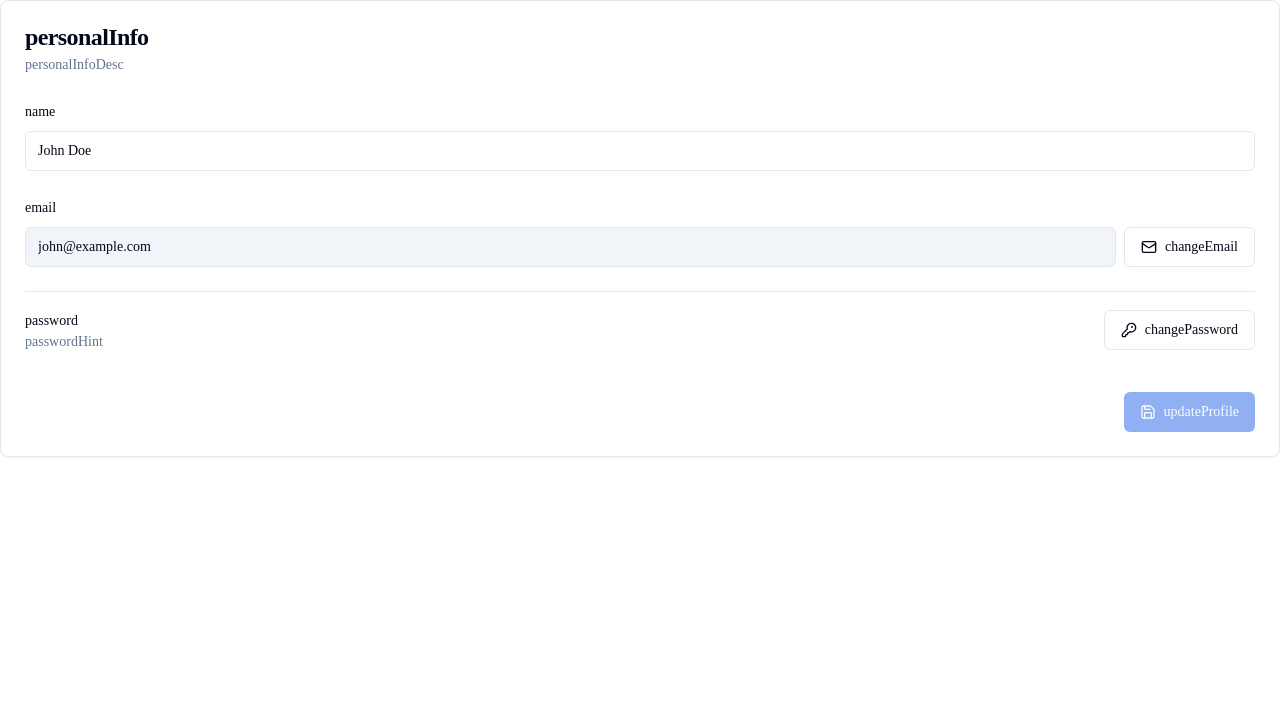
Test: ProfileForm › Email Change Dialog › should enable send verification button when all fields are filled
Click the button "changeEmail".
click(1189, 247)  # box left=1124, top=227, right=1255, bottom=267
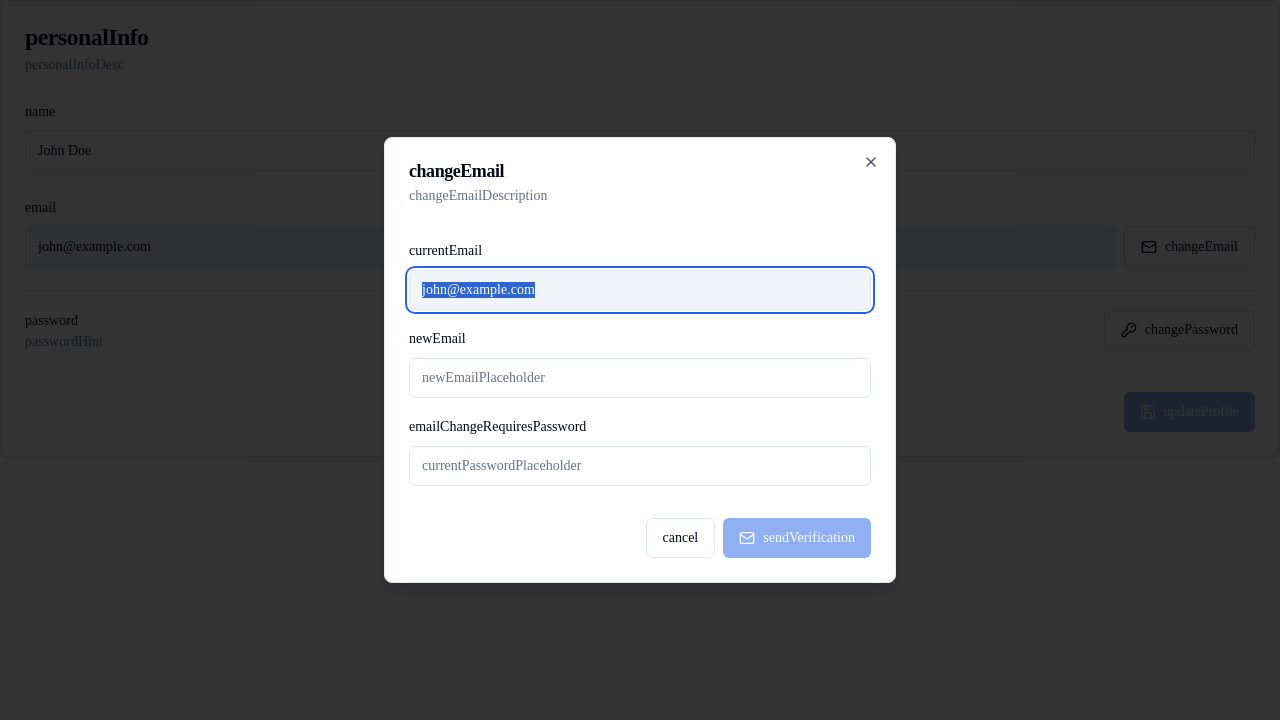
Type "newemail@example.com" into the field labelled "newEmail".
click(640, 378); type("newemail@example.com")  # box left=409, top=358, right=871, bottom=398
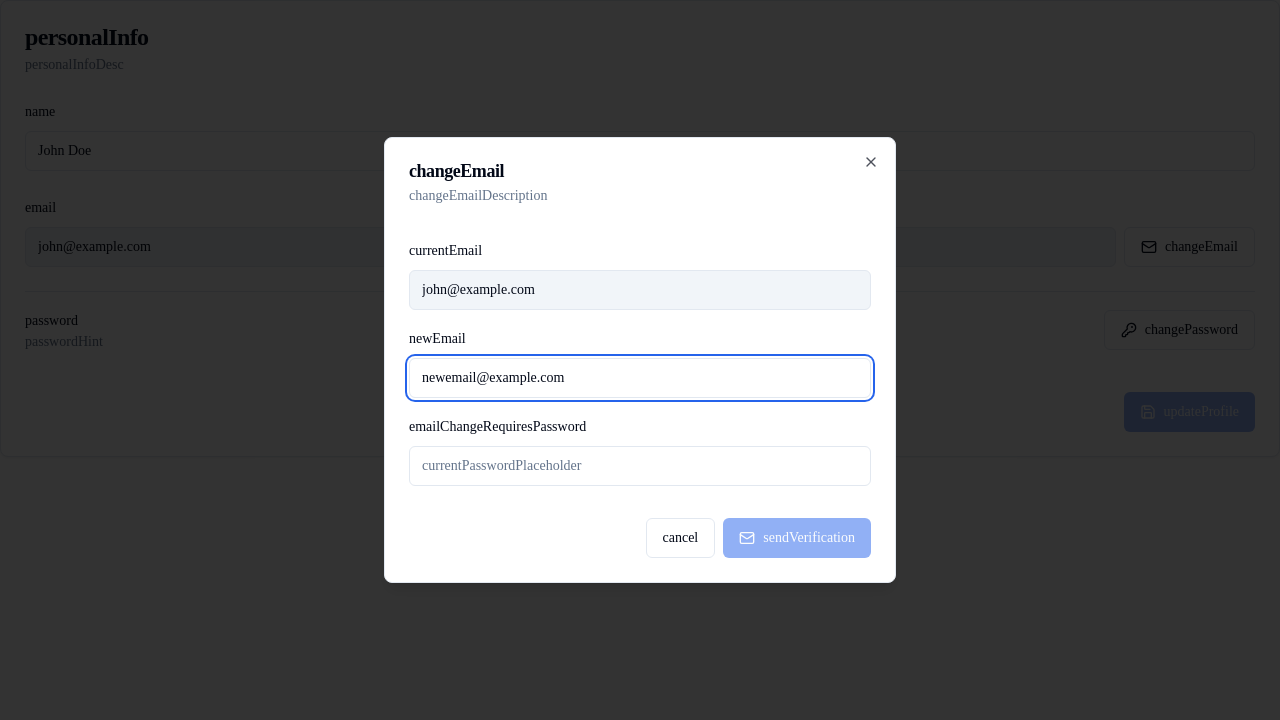
Type "password123" into the password field labelled "emailChangeRequiresPassword".
click(640, 466); type("password123")  # box left=409, top=446, right=871, bottom=486
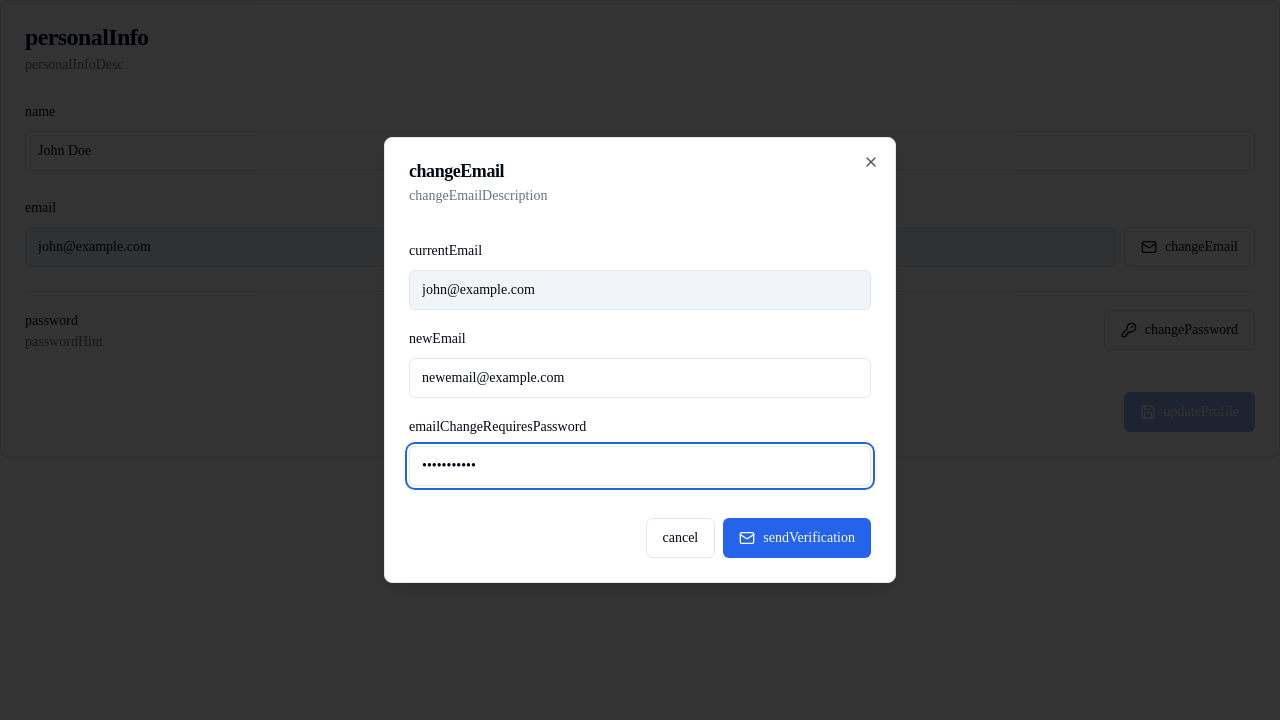
Now the button "sendVerification" is enabled, box left=723, top=518, right=871, bottom=558
